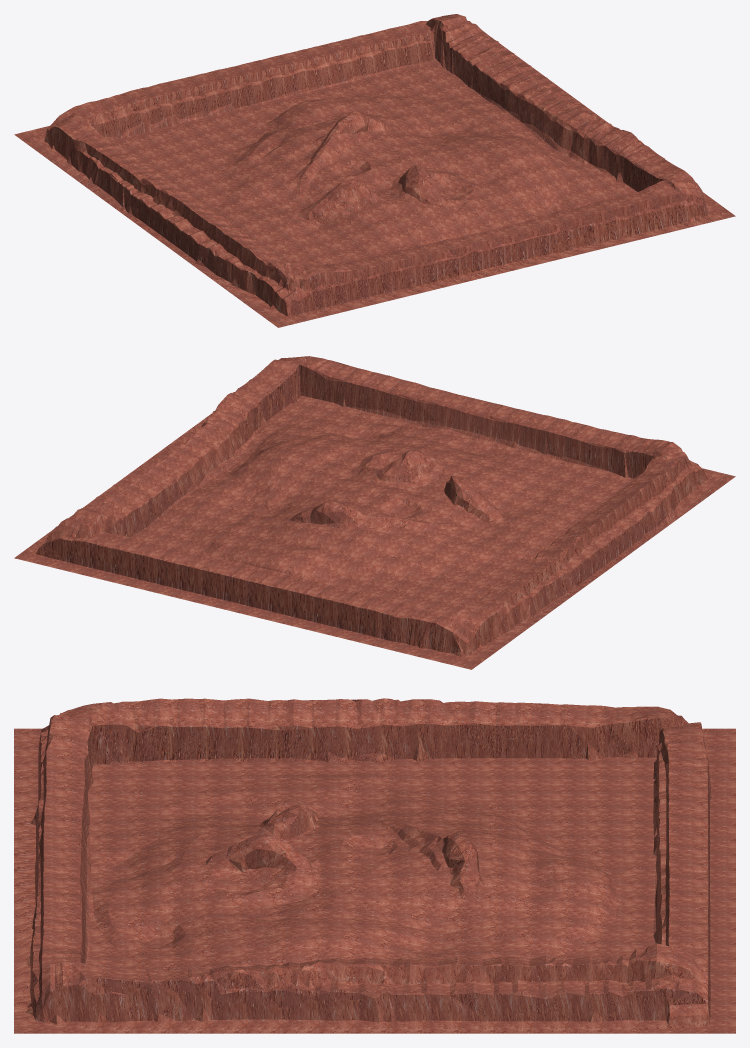
The model's file is Terrain.fbx.
3 renders of one model, top to bottom at view 1: azimuth 30°, elevation 25°; view 2: azimuth 150°, elevation 25°; view 3: azimuth 270°, elevation 25°, orthographic. The views are drawn at different scales.
Visible parts, largest first — view 1: Plane; view 2: Plane; view 3: Plane.
Boxes of the visible parts, box(x1,y1,x2,y2) form: Plane: box(14, 14, 735, 327); Plane: box(14, 356, 735, 669); Plane: box(14, 698, 735, 1033).
Bounding box in the file's own units: 96487 × 7936 × 96487.
